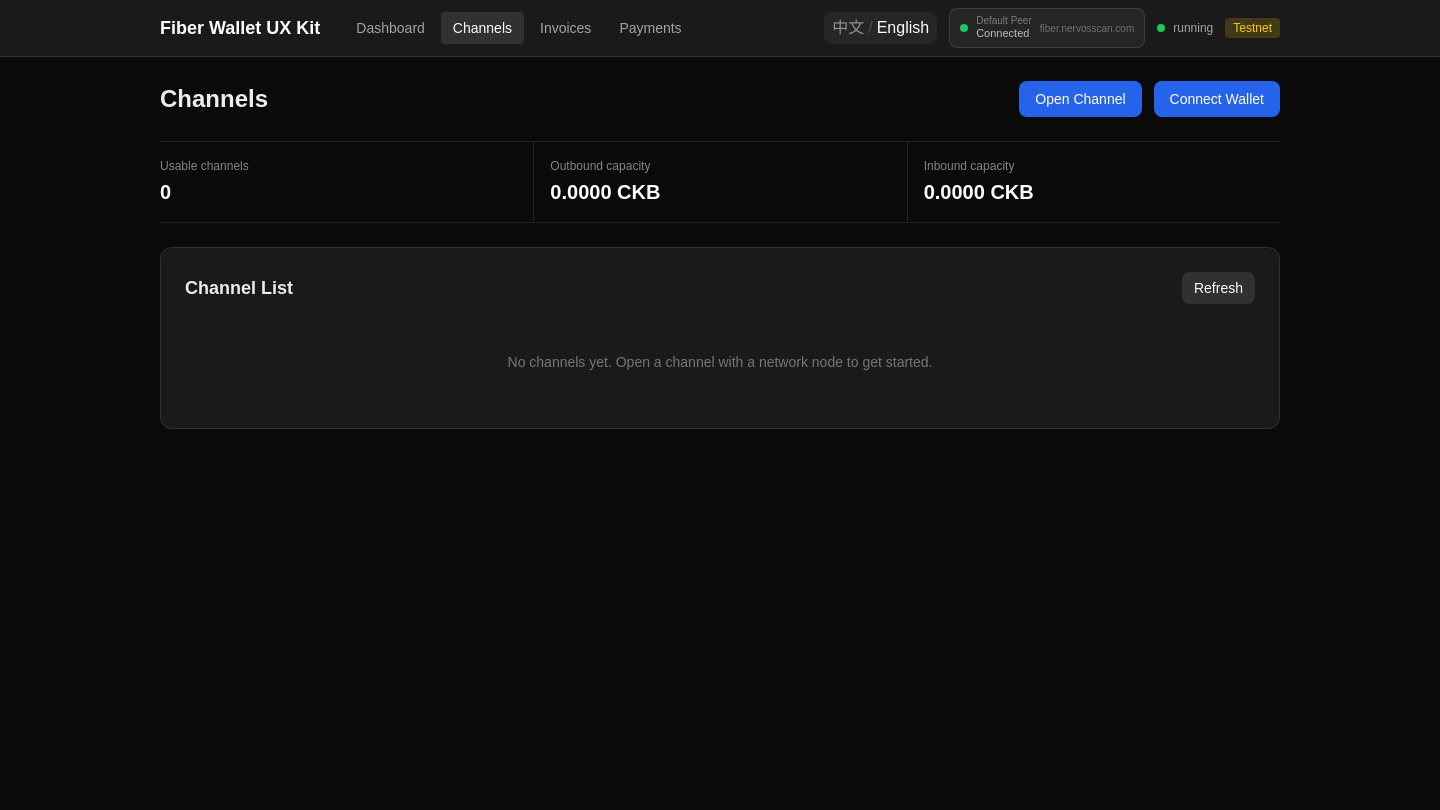
ChannelsPage › requires the funding amount to be at least 600 CKB
Click the button "Open Channel" at (1080, 99), box [1019, 81, 1142, 117]
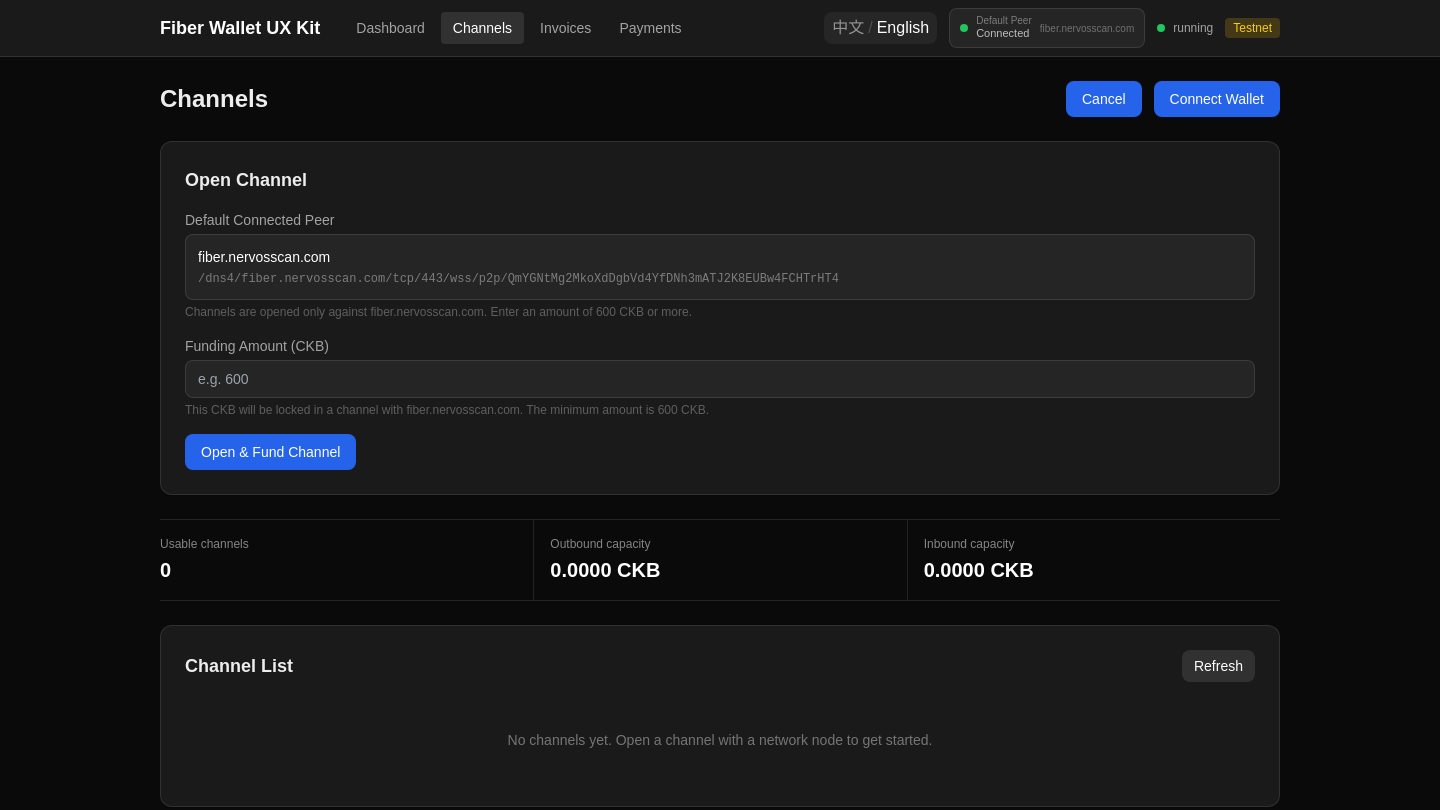
Type "599" into the field with placeholder "e.g. 600" at (720, 379), box [185, 360, 1255, 398]
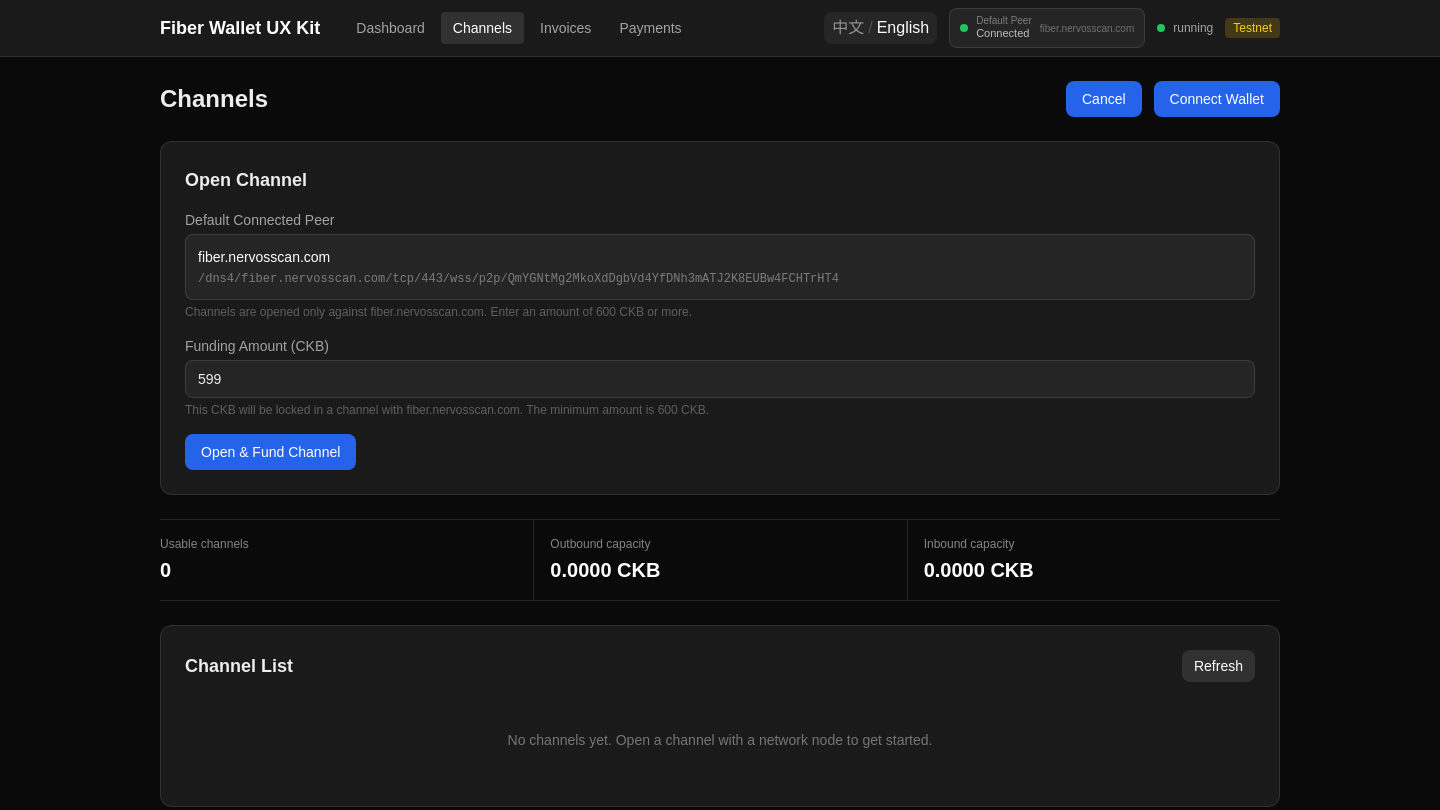
Click the button "Open & Fund Channel" at (271, 452), box [185, 434, 356, 470]
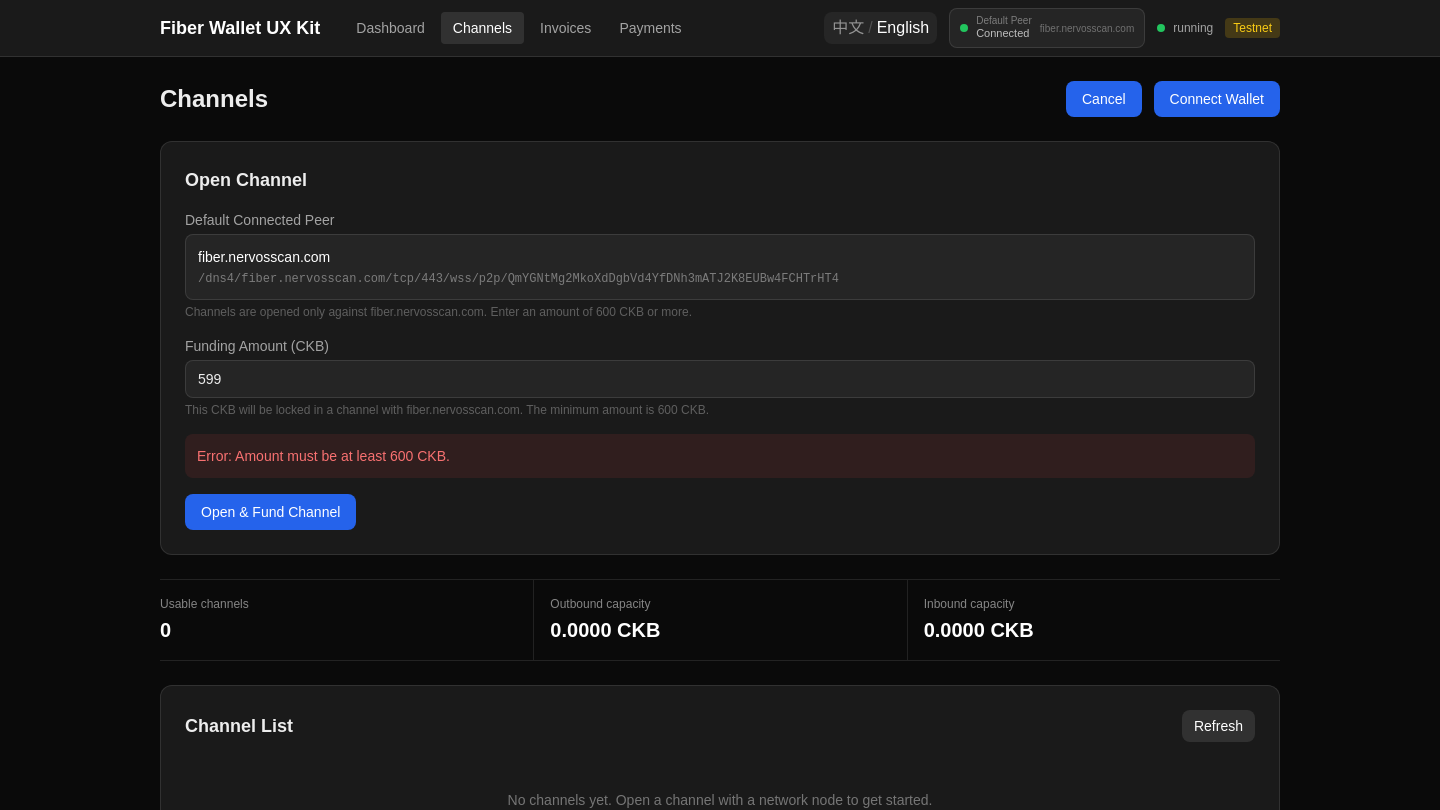
Now the text "Error: Amount must be at least 600 CKB." is shown, box [185, 434, 1255, 478]
